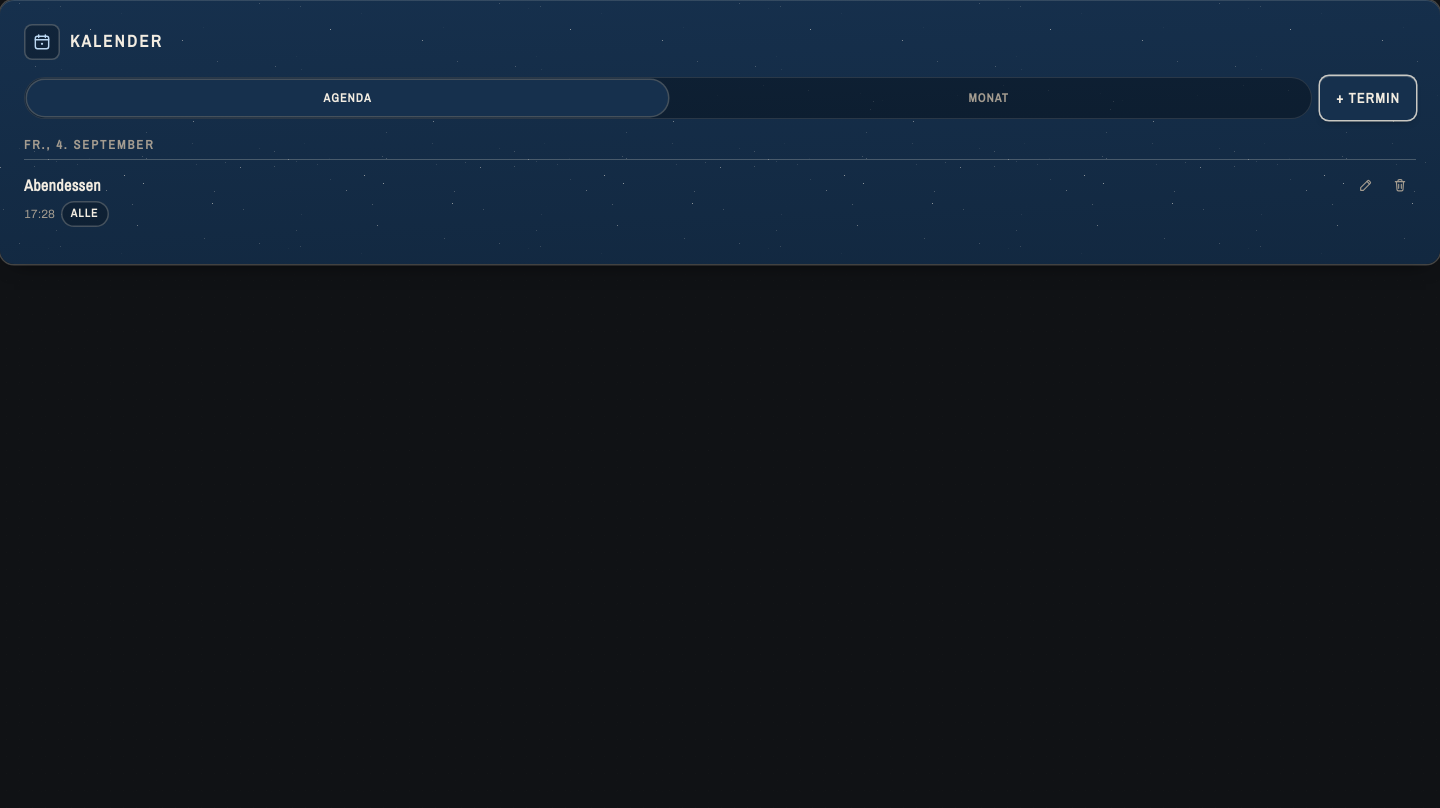
Scenario: CalendarPanel › renders the agenda and switches to the month grid
Expected: the text "Abendessen" is shown, [24, 173, 108, 197]
Click the button "Monat". click: coordinates (989, 98)
box: [668, 80, 1309, 116]
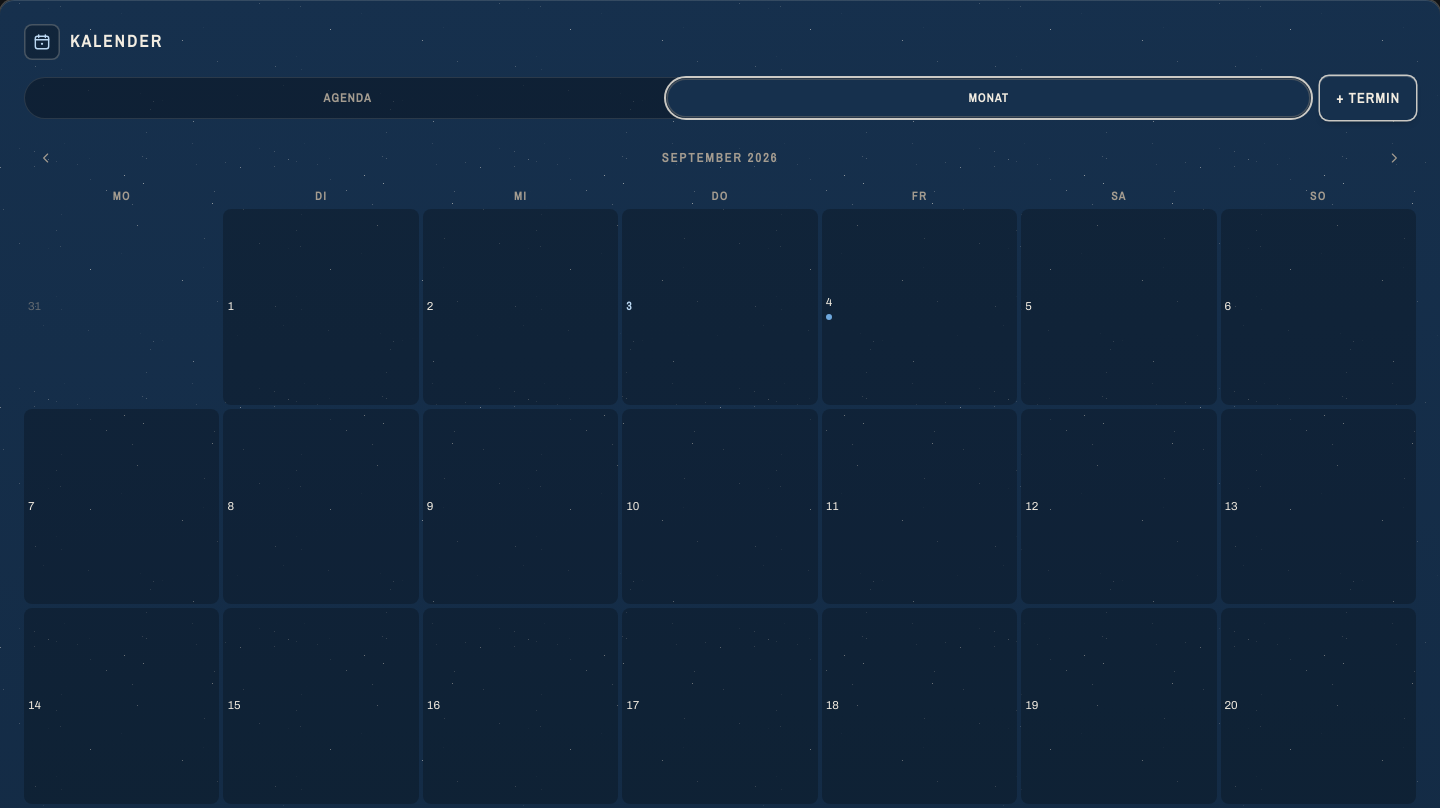
Expected: the text "Mo" is shown, [113, 188, 131, 204]
